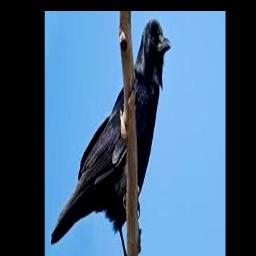Crow: (50, 16, 170, 256)
